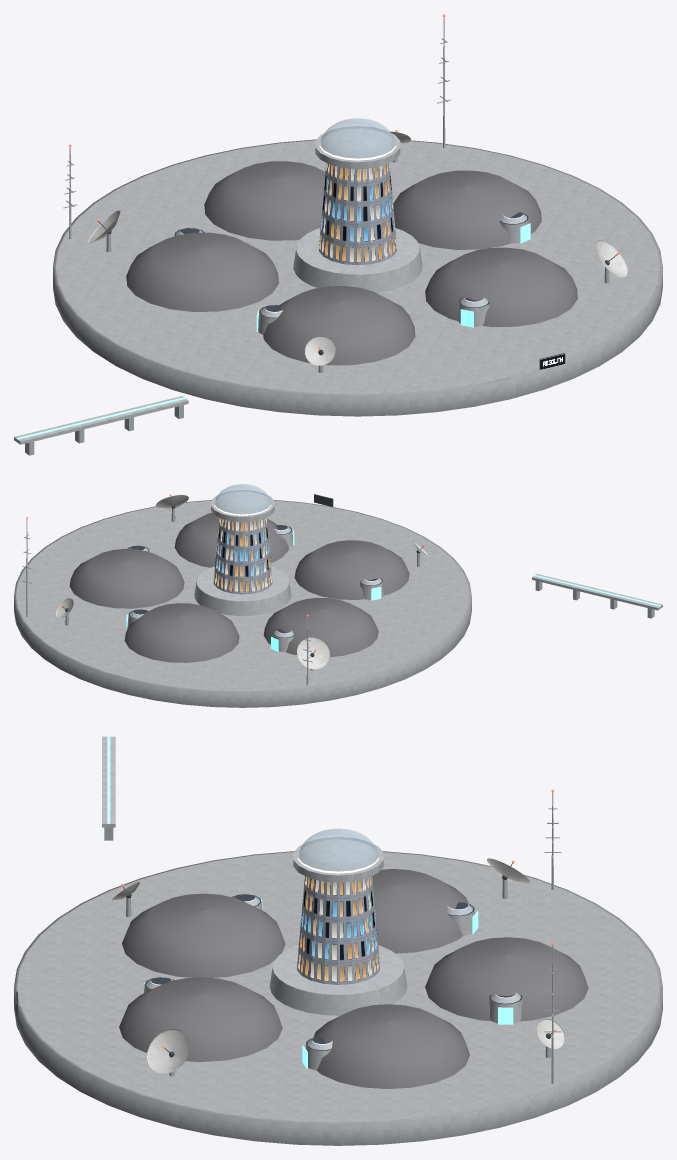
File: moon_regolith_town.glb
3 views of the same model, one above another, from view 1: azimuth 30°, elevation 25°; view 2: azimuth 150°, elevation 25°; view 3: azimuth 270°, elevation 25° (orthographic). The views are drawn at different scales.
Parts seen in each view (by area): view 1: moon_regolith_town_LOD0; view 2: moon_regolith_town_LOD0; view 3: moon_regolith_town_LOD0.
Part boxes in pixels (<box>): moon_regolith_town_LOD0: <box>14,14,662,455</box>; moon_regolith_town_LOD0: <box>14,484,662,707</box>; moon_regolith_town_LOD0: <box>14,736,662,1145</box>.
Size of what is drawn, in the model's own units: 114 by 25.2 by 84.8.
4 materials, 3 textured.
